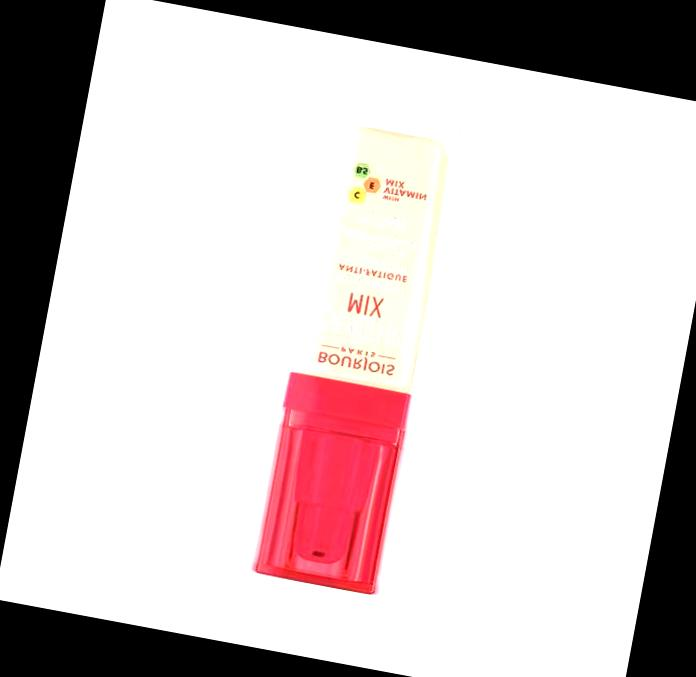cosmetic: (245, 88, 472, 596)
